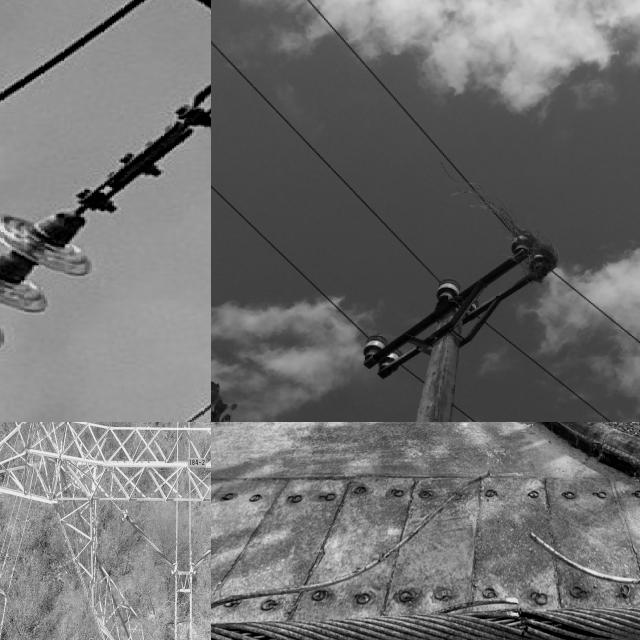杆塔: (0, 422, 211, 640)
植被遮挡: (453, 186, 561, 282)
正常绝缘子: (0, 170, 151, 378), (120, 507, 179, 578), (189, 541, 211, 577)
电缆破损: (227, 454, 640, 640)
